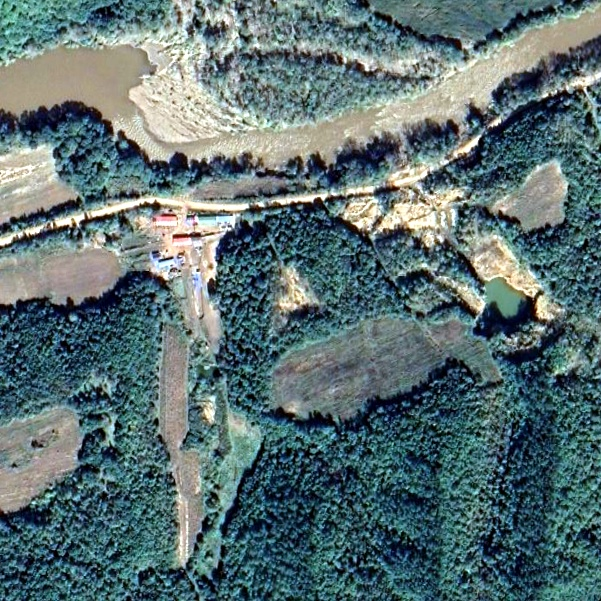slope: (461, 231, 570, 326), (341, 182, 469, 253), (262, 259, 327, 335)
